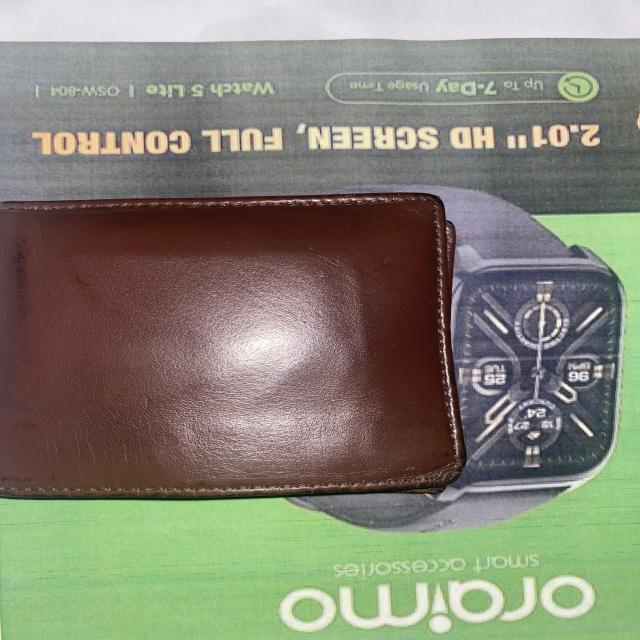Watch 5 Lite OSW-804: (27, 73, 283, 105)
